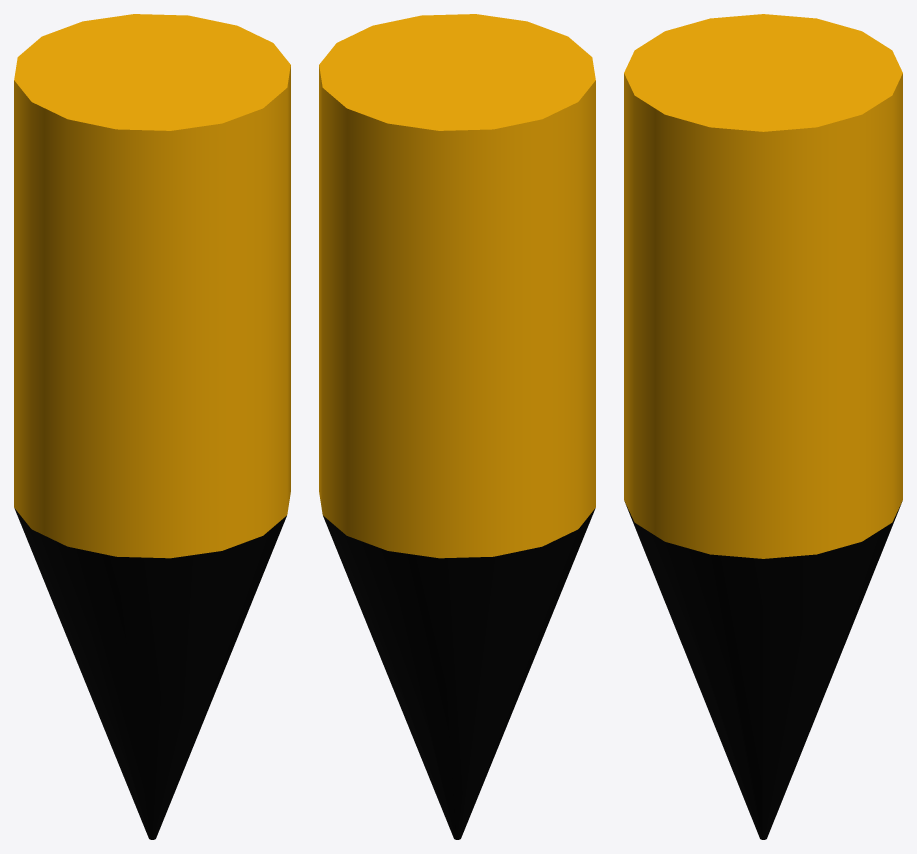
File: drill.fbx
The picture shows the model from 3 angles, left to right: view 1: azimuth 30°, elevation 25°; view 2: azimuth 150°, elevation 25°; view 3: azimuth 270°, elevation 25°; orthographic projection.
Visible parts, largest first — view 1: Cylinder; view 2: Cylinder; view 3: Cylinder.
Part boxes in pixels (left/top/right/bottom): Cylinder: left=14, top=14, right=290, bottom=839; Cylinder: left=319, top=14, right=595, bottom=839; Cylinder: left=624, top=14, right=902, bottom=839.
Bounding box in the file's own units: 119 × 360 × 119.
